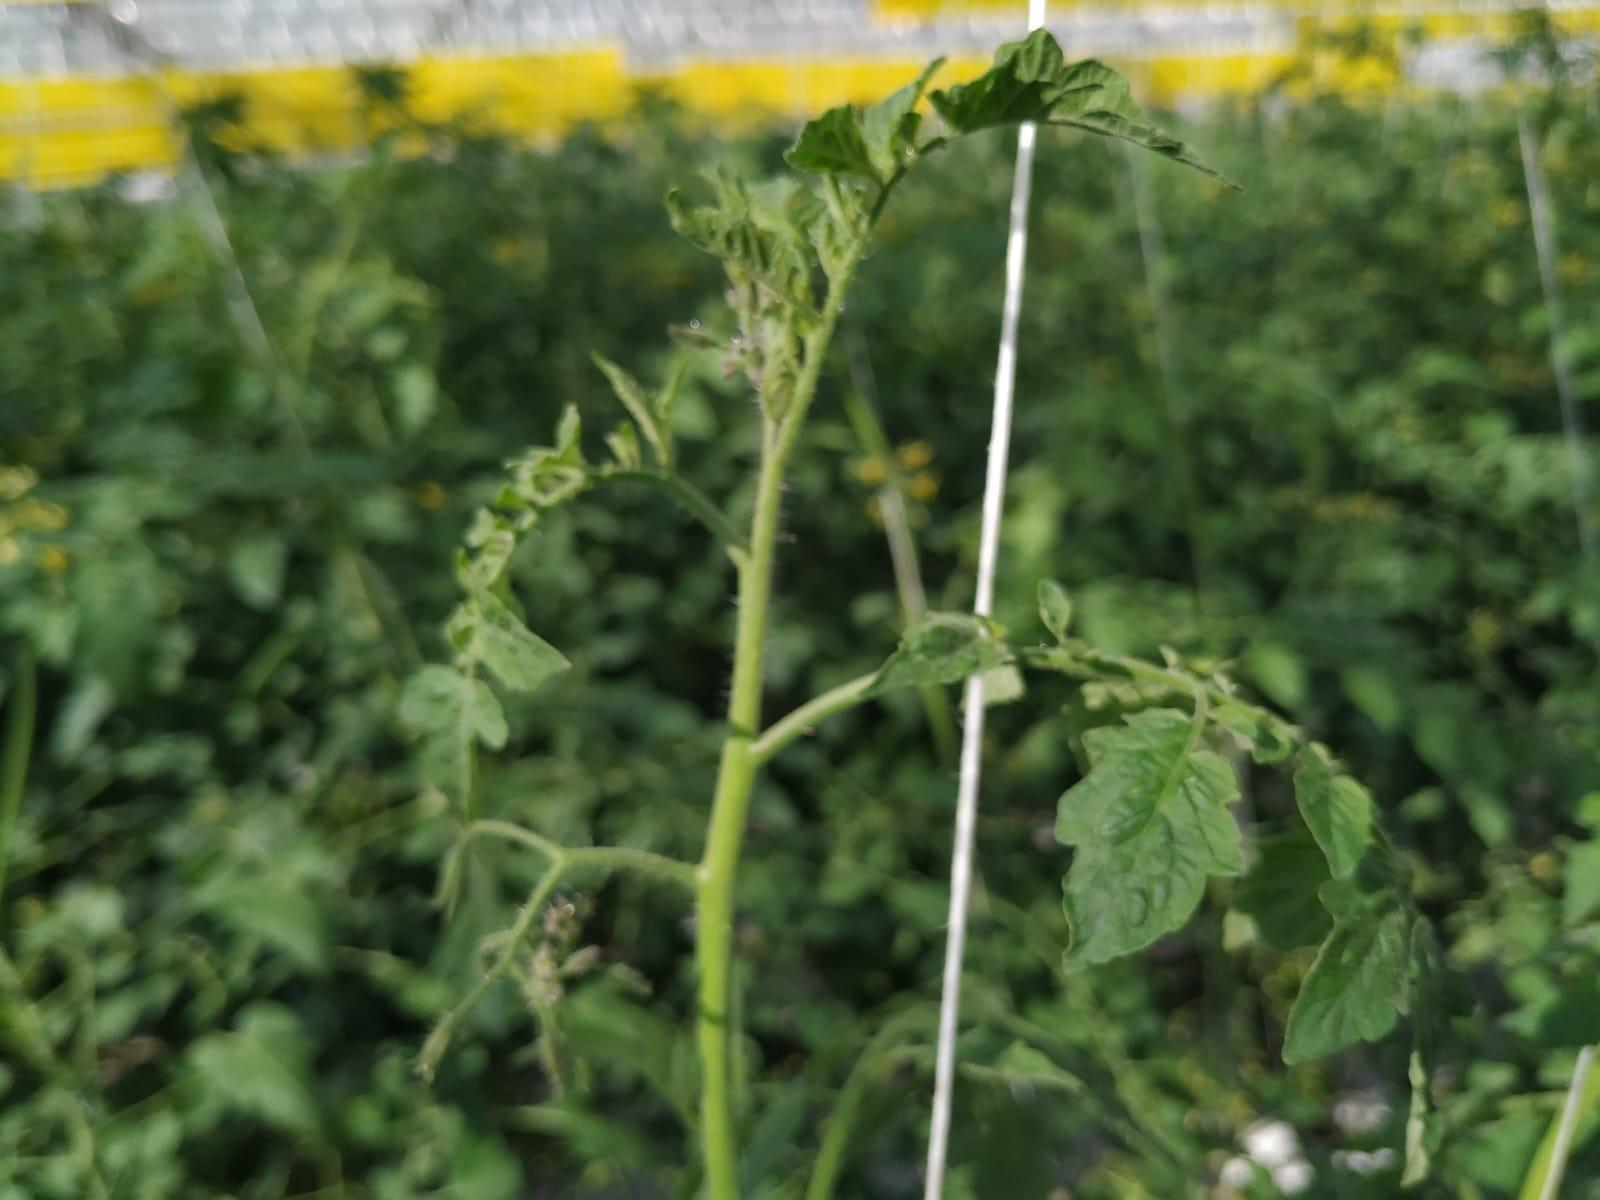Hoja: (1056, 710, 1243, 966)
Hoja rugoso: (929, 28, 1212, 174)
Pedunculo: (697, 450, 781, 1197)
